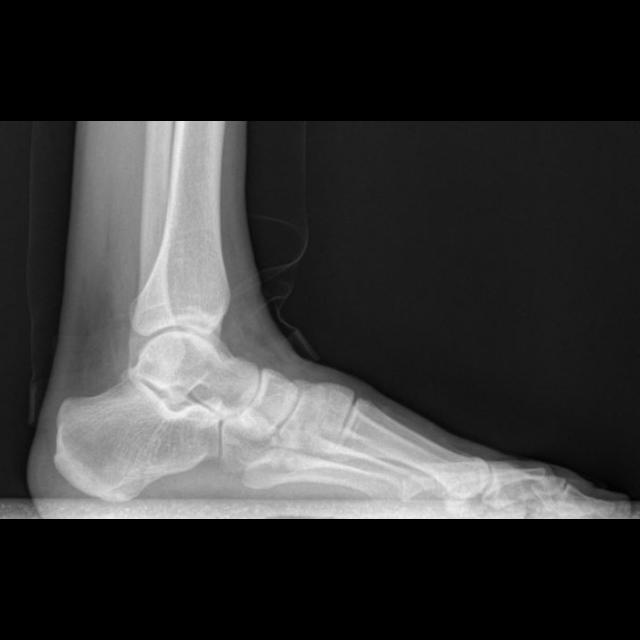a: (52, 374, 225, 503)
b: (237, 365, 292, 442)
c: (334, 397, 492, 497)
